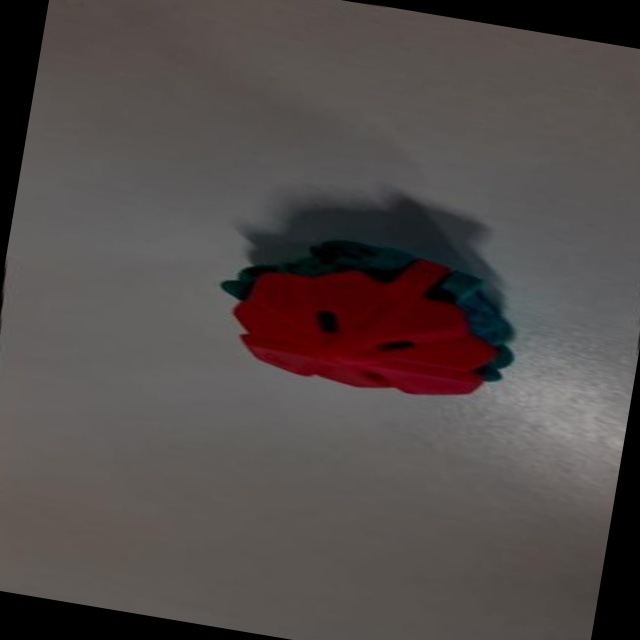House: (198, 207, 549, 429)
